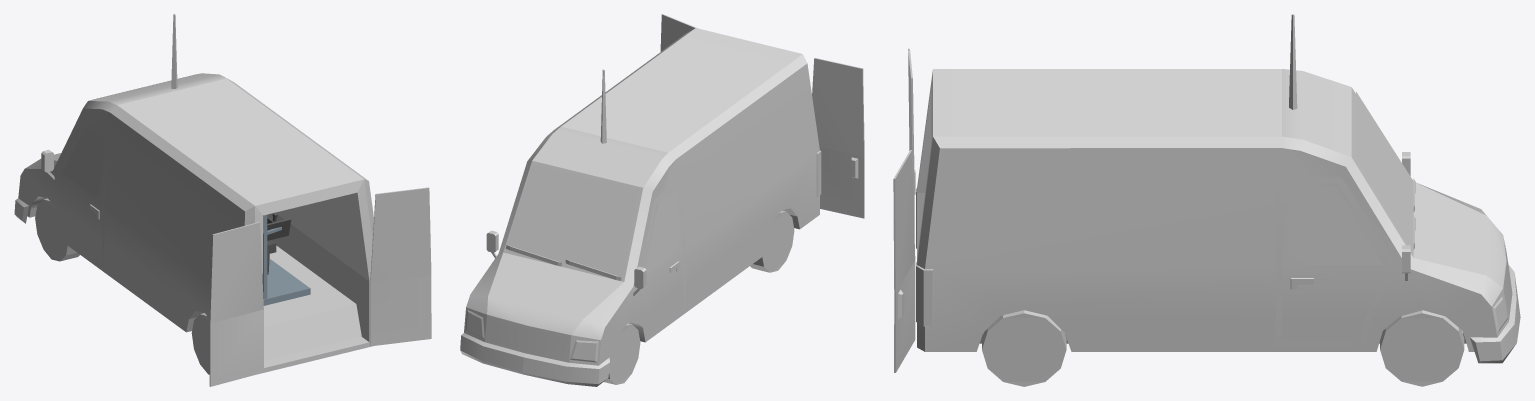
File: Benchremote_van_700_v.fbx
The picture shows the model from 3 angles, left to right: view 1: azimuth 30°, elevation 25°; view 2: azimuth 150°, elevation 25°; view 3: azimuth 270°, elevation 25°; orthographic projection. The views are drawn at different scales.
Parts seen in each view (by area): view 1: Benchremote Van; view 2: Benchremote Van; view 3: Benchremote Van.
Boxes of the visible parts, x1=… form: Benchremote Van: x1=14, y1=14, x2=431, y2=386; Benchremote Van: x1=460, y1=14, x2=864, y2=386; Benchremote Van: x1=893, y1=14, x2=1520, y2=386.
Bounding box in the file's own units: 296 × 347 × 588.
